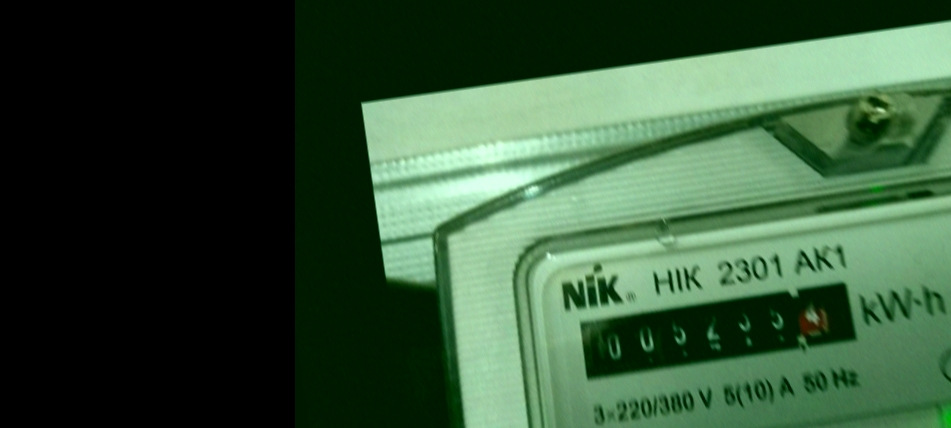0: (634, 320, 659, 356), (603, 329, 625, 362)
2: (699, 308, 725, 345)
3: (731, 301, 759, 337)
4: (799, 292, 826, 331)
5: (764, 296, 791, 335), (668, 314, 691, 349)
screen: (561, 267, 872, 394)
